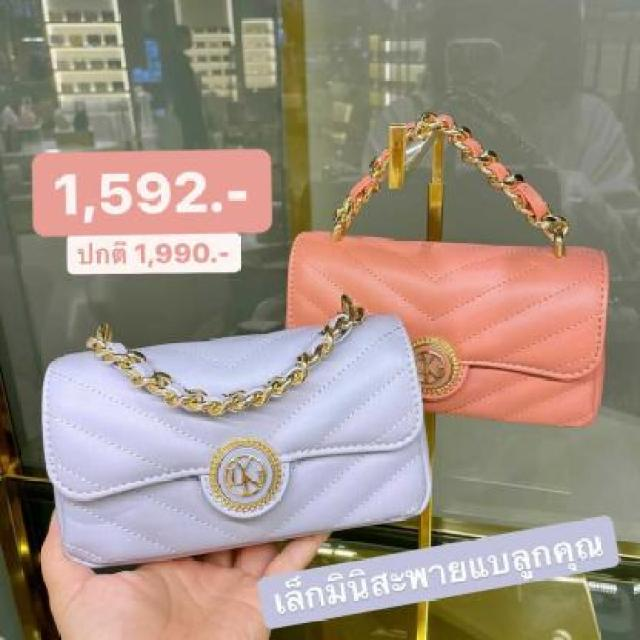Bag: (16, 276, 550, 595), (278, 81, 617, 437)
